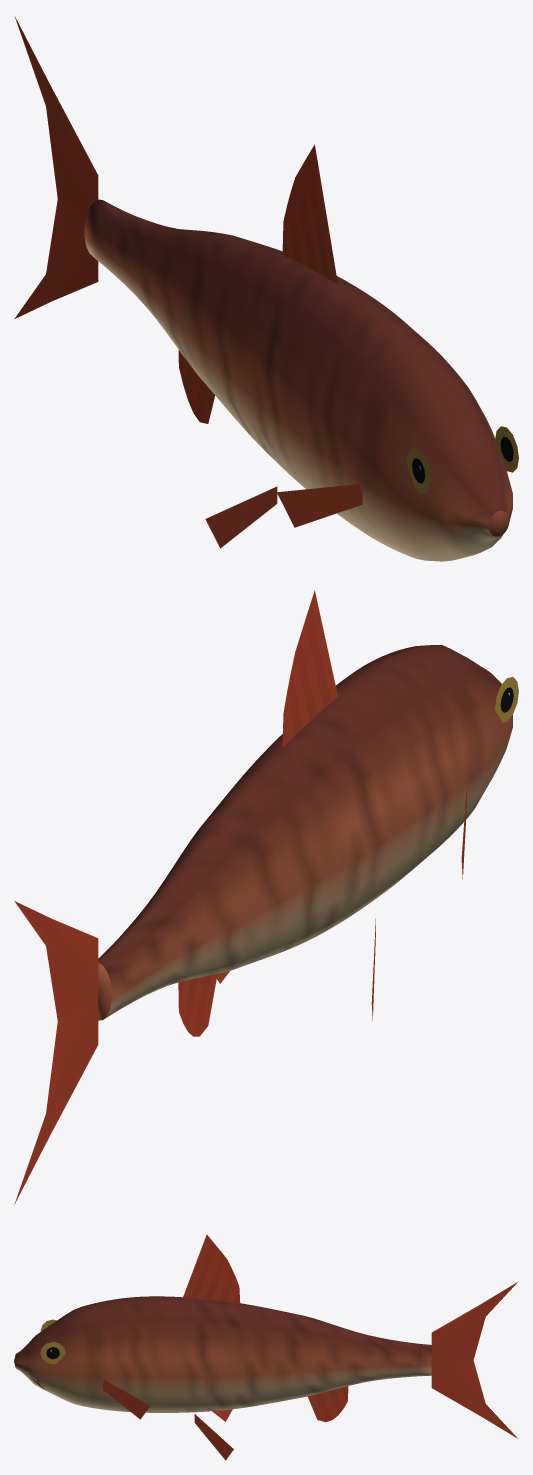
File: kelah.fbx
3 renders of one model, top to bottom at view 1: azimuth 30°, elevation 25°; view 2: azimuth 150°, elevation 25°; view 3: azimuth 270°, elevation 25°, orthographic. The views are drawn at different scales.
Parts seen in each view (by area): view 1: kelah; view 2: kelah; view 3: kelah.
Part boxes in pixels (x1,y1,x2,y2): kelah: (14, 16, 518, 561); kelah: (14, 590, 518, 1204); kelah: (14, 1234, 518, 1460).
Size of the model in its own units: 0.2663 by 0.5495 by 1.21.
